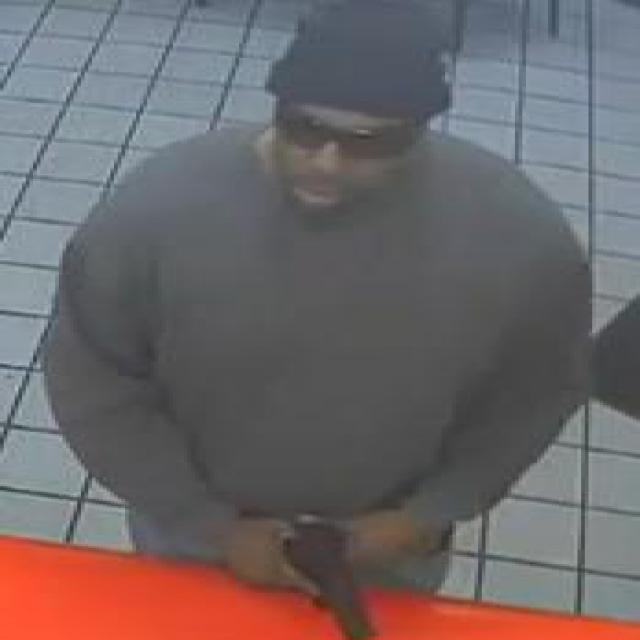Gun: (276, 518, 376, 638)
